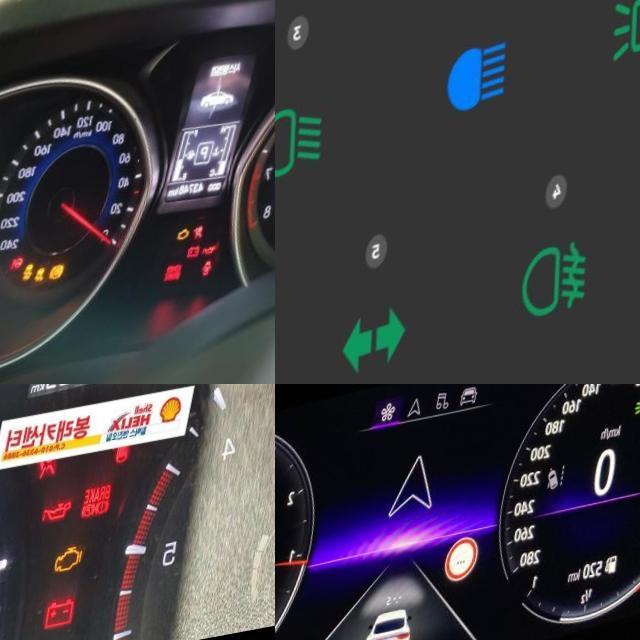Doors: (221, 271, 235, 289)
FrontFogLight: (530, 248, 618, 343)
Low beam: (275, 100, 344, 189)
SideLamp: (611, 0, 640, 84)
